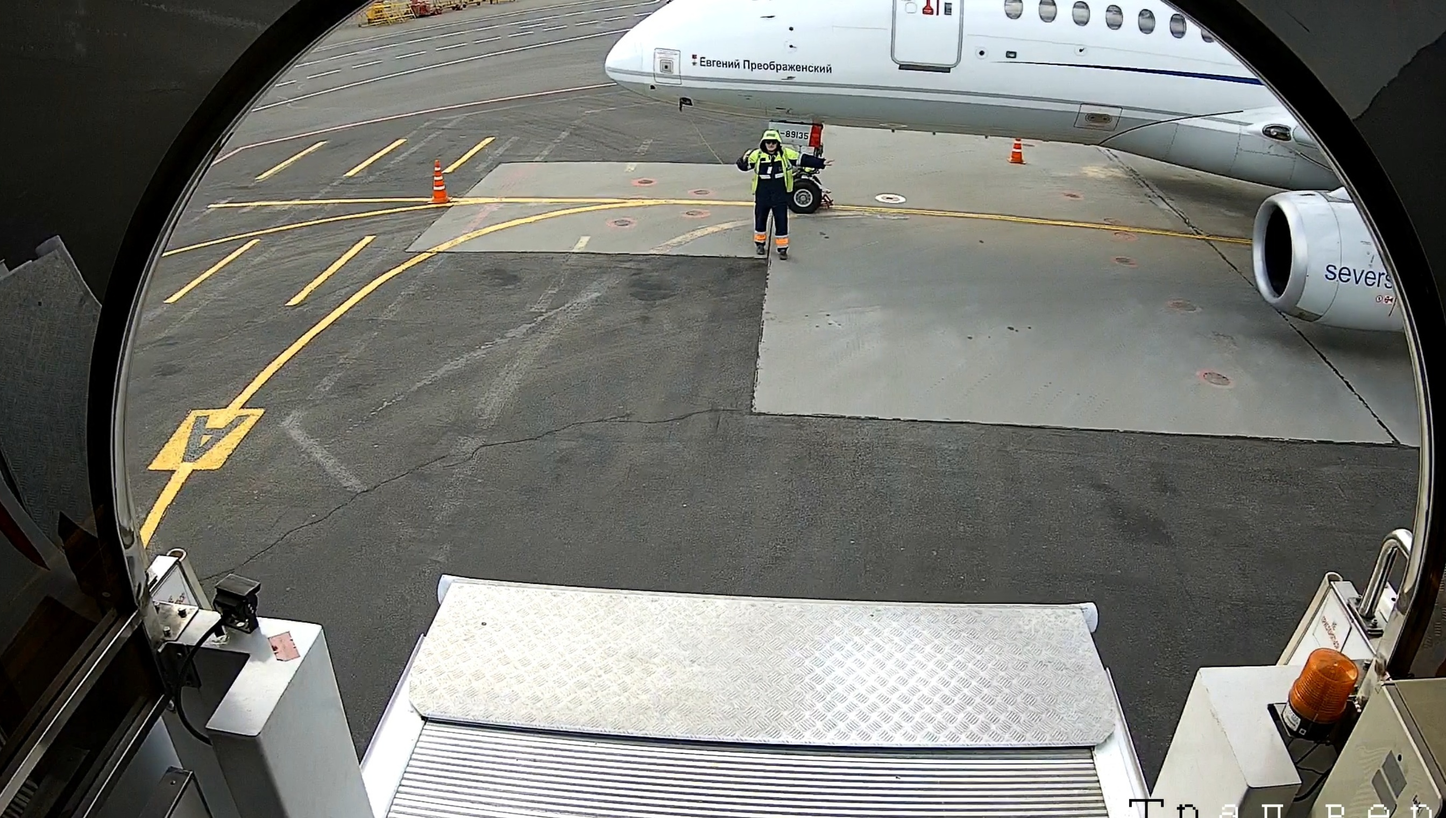boots: (822, 187, 836, 208)
wheels: (791, 178, 825, 217)
